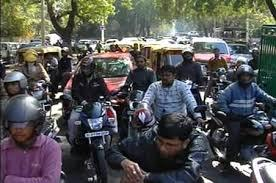helmet: (3, 94, 46, 143), (2, 71, 29, 94), (236, 64, 254, 89), (77, 56, 96, 79), (23, 48, 38, 68), (181, 46, 194, 64), (60, 46, 70, 60)
nohelmet: (154, 112, 195, 159), (160, 64, 177, 88), (135, 54, 148, 72), (212, 47, 221, 60)
